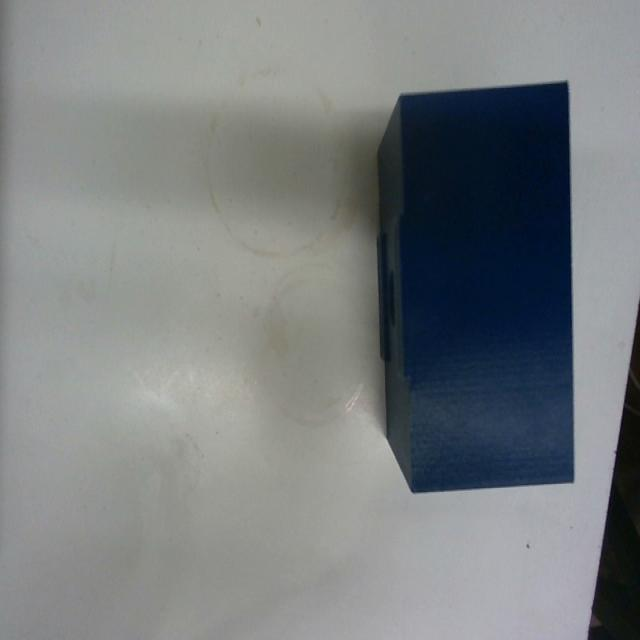Blue Cuboid: (373, 76, 576, 495)
